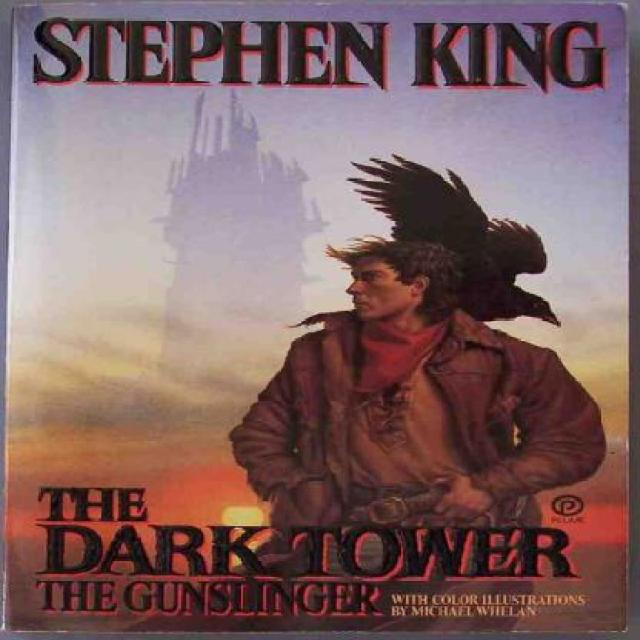Person: (117, 233, 608, 633)
